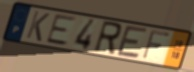4: (72, 18, 95, 51)
E: (114, 24, 149, 61), (44, 14, 79, 47)
F: (140, 28, 172, 61)
K: (24, 10, 51, 44)
R: (91, 19, 124, 57)
